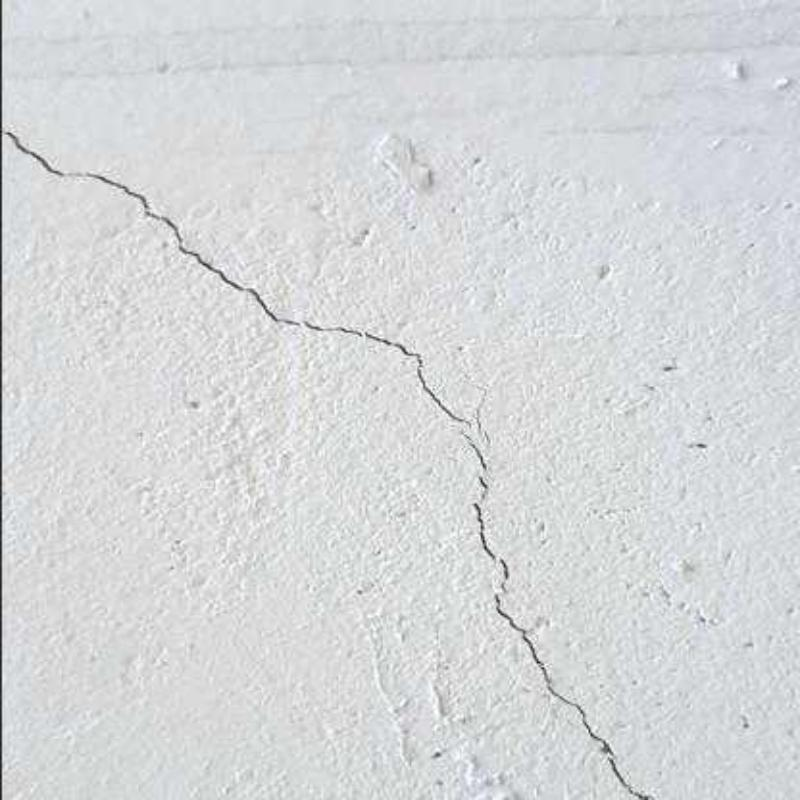pothole: (2, 132, 473, 428), (495, 593, 646, 799), (463, 433, 488, 500), (471, 503, 495, 559), (473, 383, 492, 446), (499, 557, 508, 593)
